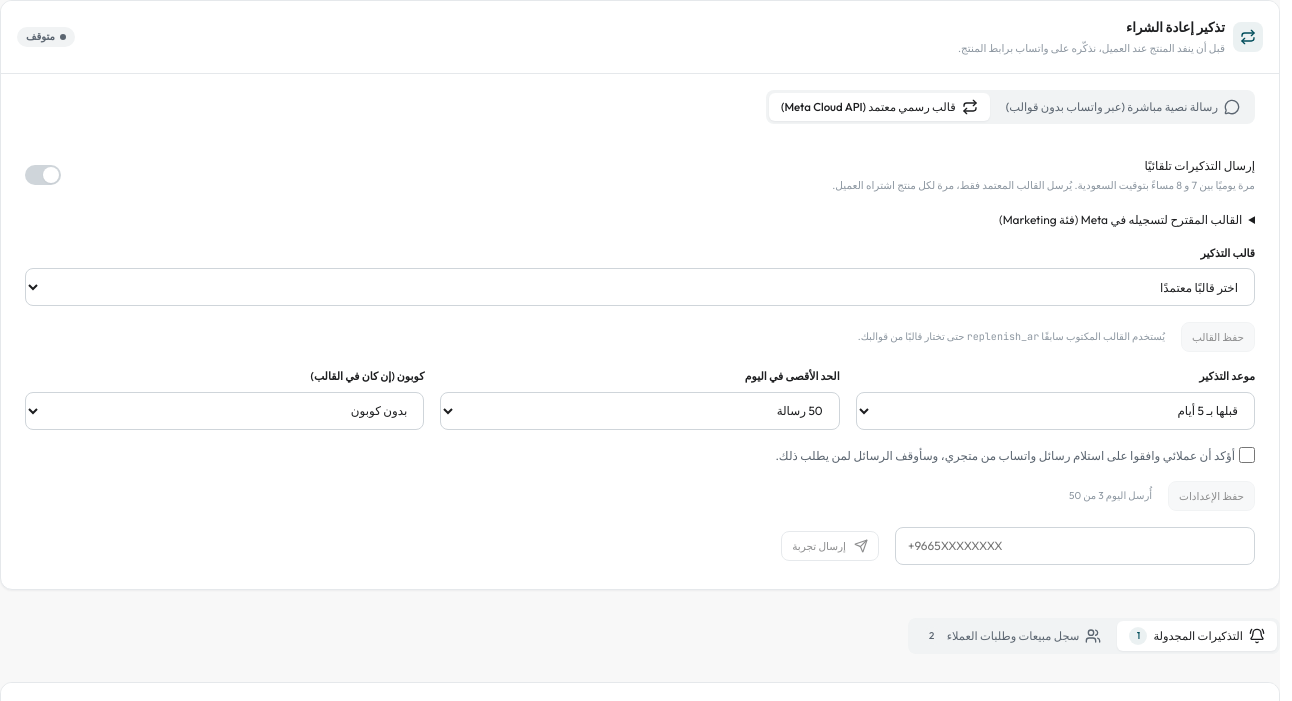
it: ReplenishTab › switches between direct text mode and template mode in settings
This screenshot has width=1292, height=701.
Click the tab "رسالة نصية مباشرة (عبر واتساب بدون قوالب)" at x=1123, y=107, box [994, 93, 1252, 121]
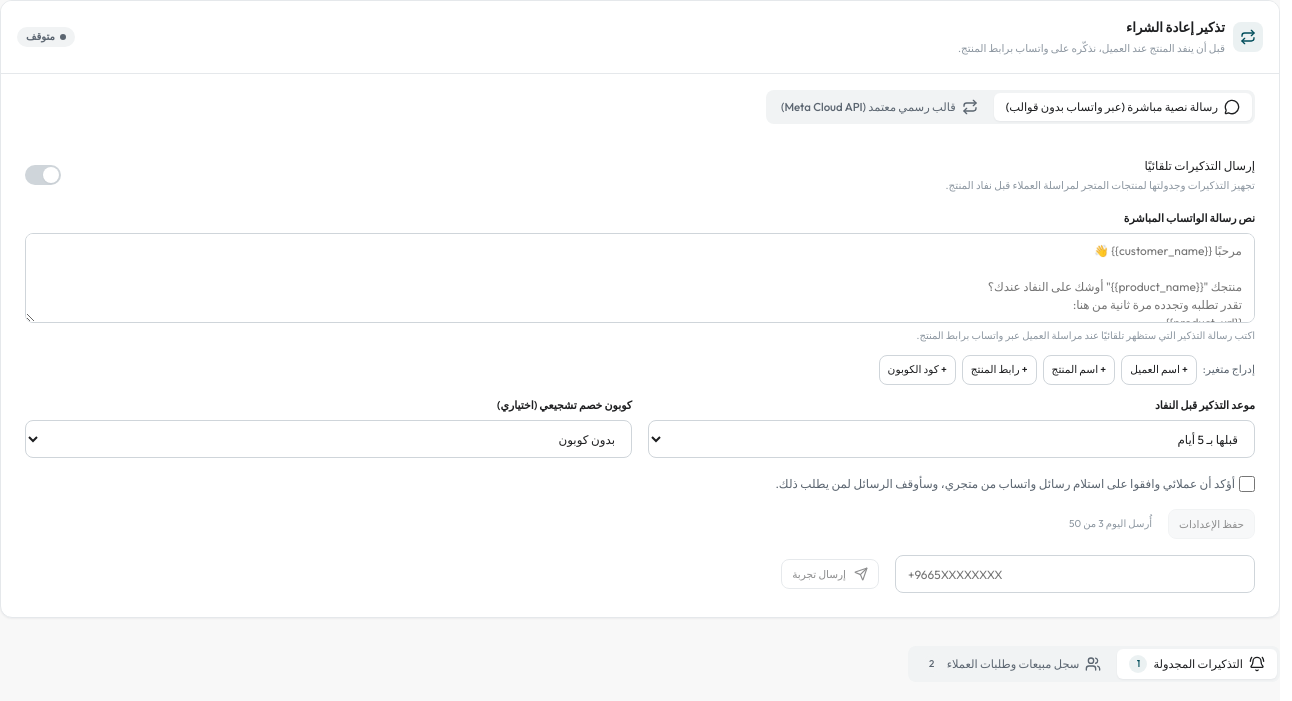
Now the text box labelled "نص رسالة الواتساب المباشرة" is shown, box [25, 233, 1255, 323]
Now the label labelled "قالب التذكير" is gone
Click the tab "قالب رسمي معتمد (Meta Cloud API)" at x=879, y=107, box [769, 93, 990, 121]
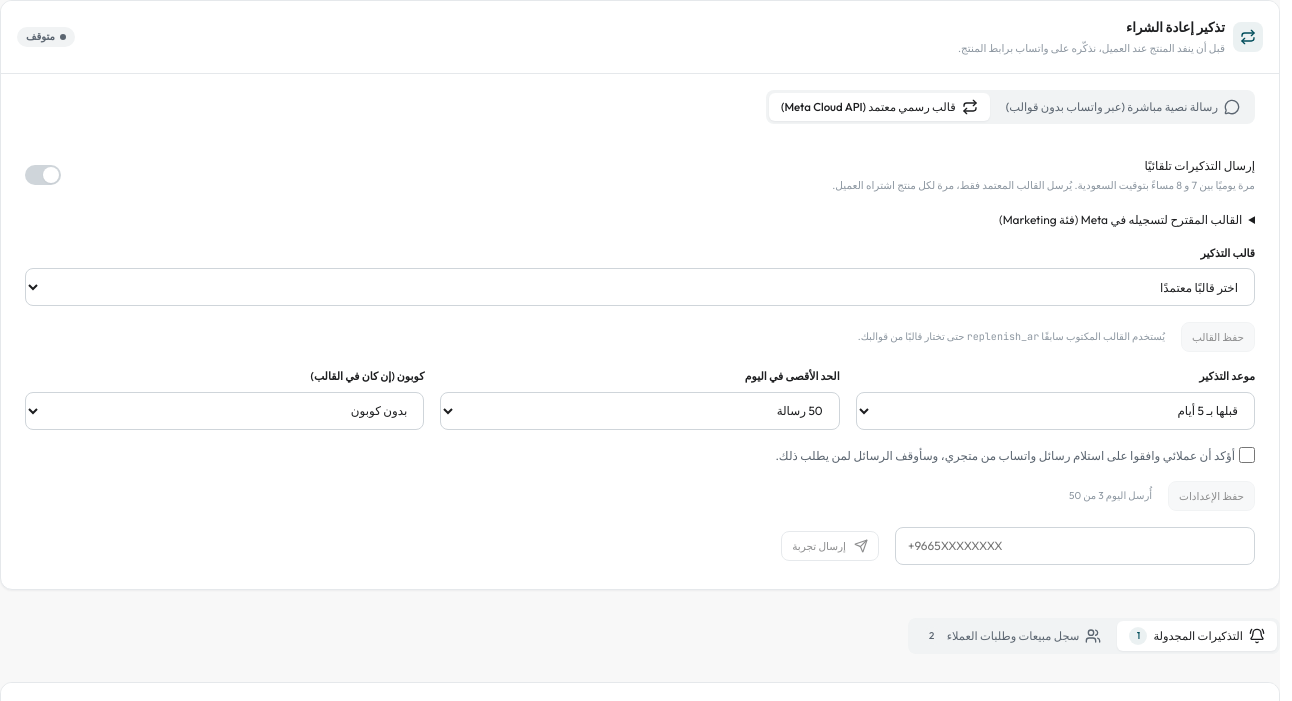
Now the dropdown labelled "قالب التذكير" is shown, box [25, 268, 1255, 306]
